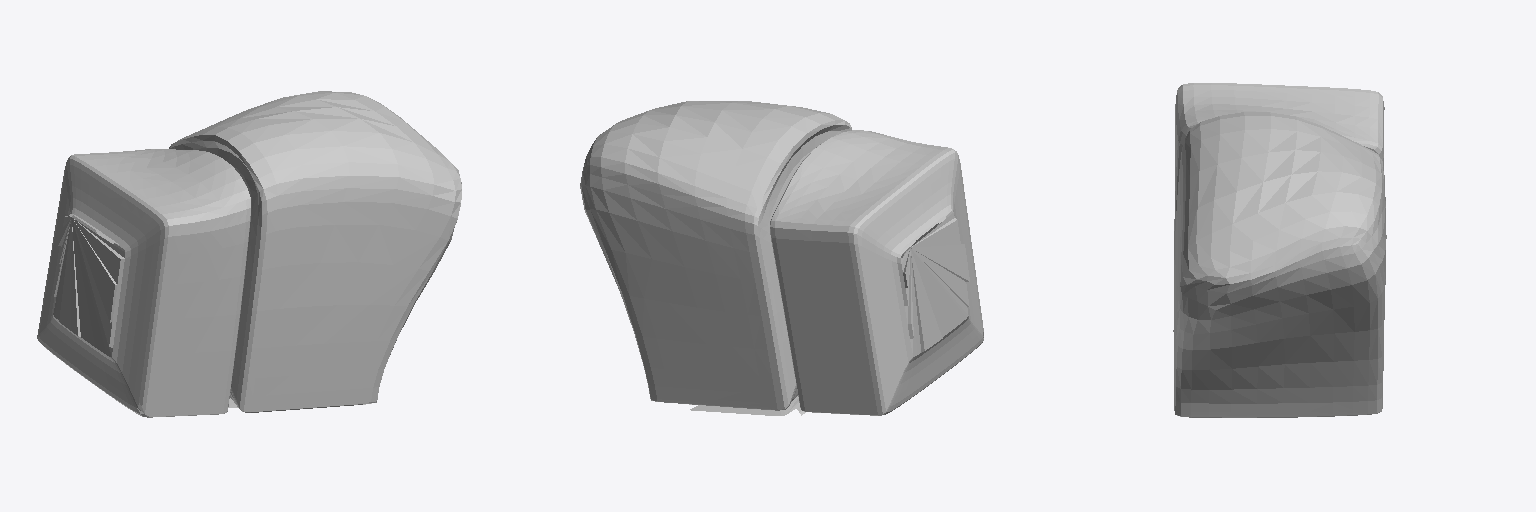
File: Hombro Derecho.obj
3 renders of one model, left to right at view 1: azimuth 30°, elevation 25°; view 2: azimuth 150°, elevation 25°; view 3: azimuth 270°, elevation 25°, orthographic.
Visible parts, largest first — view 1: Cyborg.Mesh_Cube; view 2: Cyborg.Mesh_Cube; view 3: Cyborg.Mesh_Cube.
Part boxes in pixels (x1,y1,x2,y2): Cyborg.Mesh_Cube: (37,91,461,417); Cyborg.Mesh_Cube: (580,101,983,415); Cyborg.Mesh_Cube: (1173,83,1386,417).
Size of the model in its own units: 1.17 by 0.8344 by 0.611.